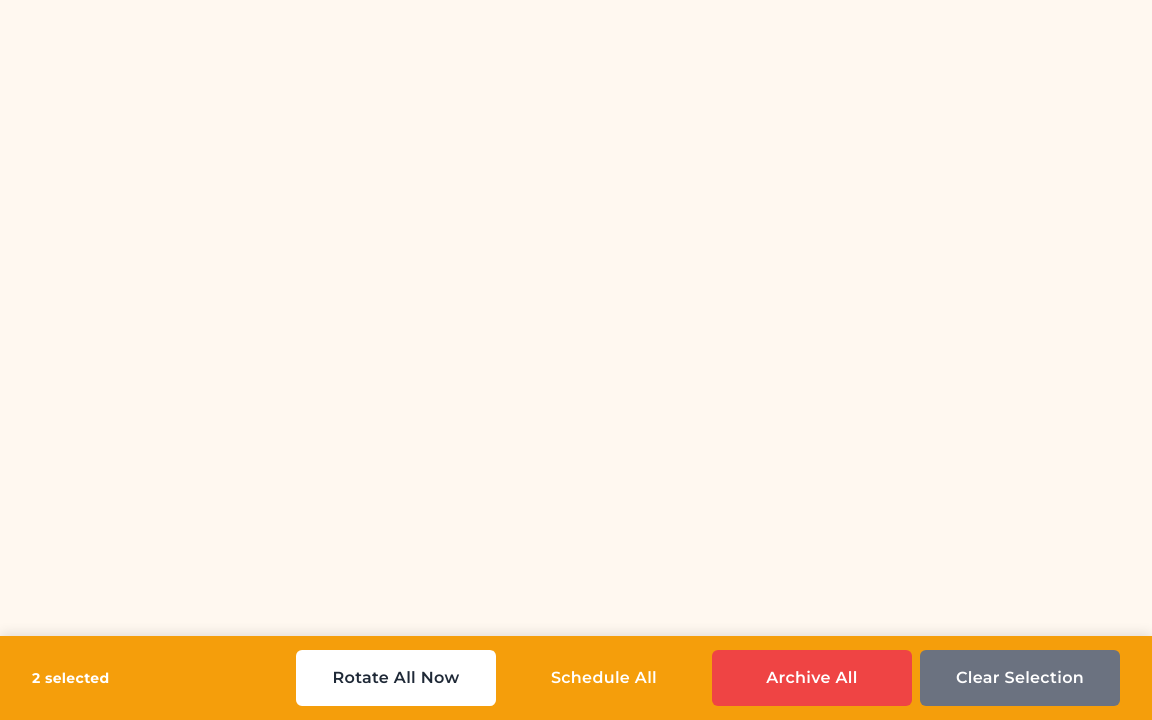
Test: BulkRotationActions › shows confirm dialog when Archive All is clicked
Click the button "Archive All".
click(812, 678)  # box [712, 650, 912, 706]
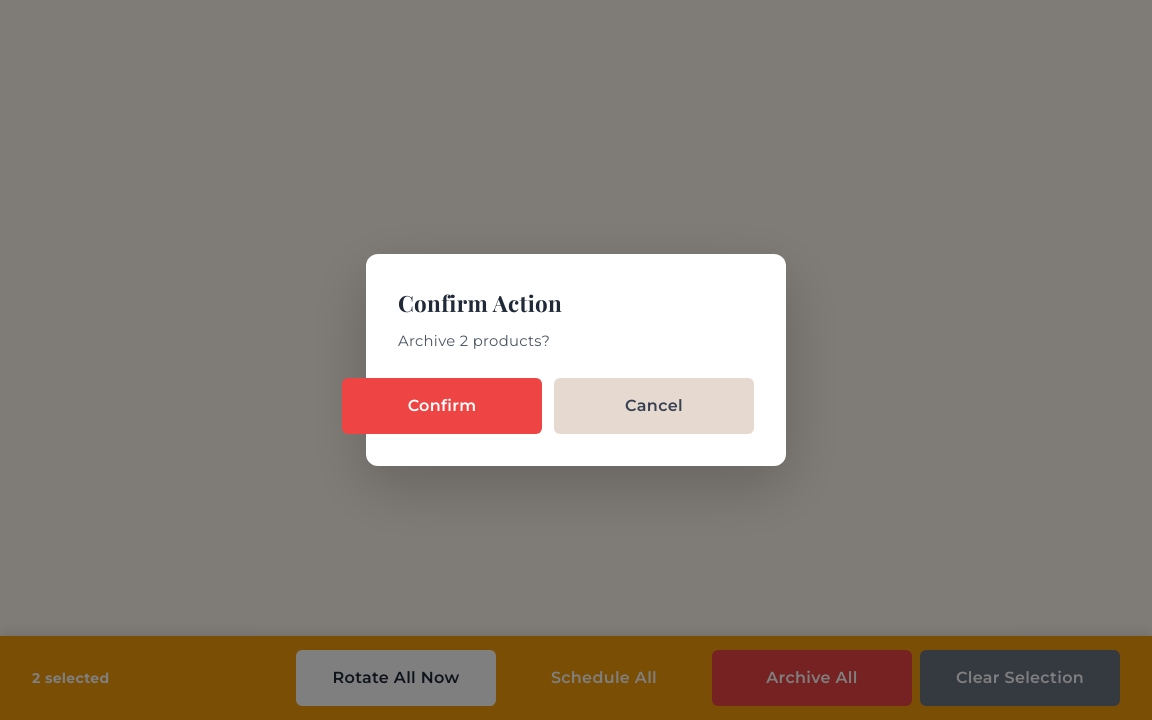
Check: the heading "Confirm Action" is shown, box [398, 288, 562, 318]
